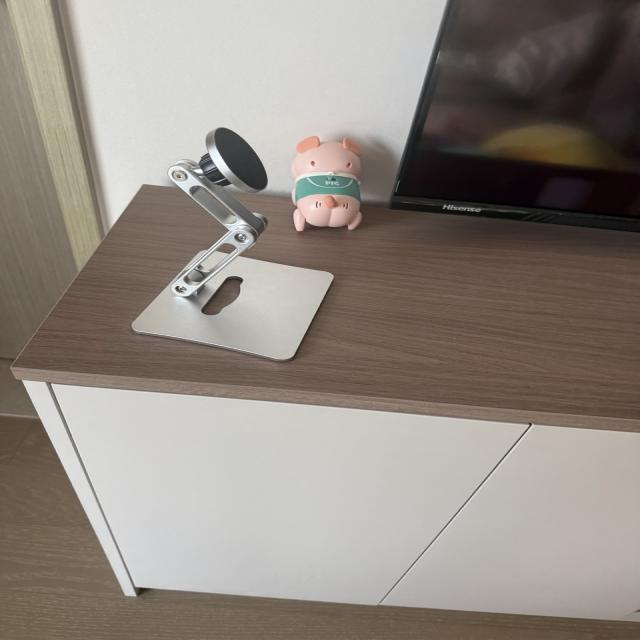phone holder: (127, 123, 342, 370)
